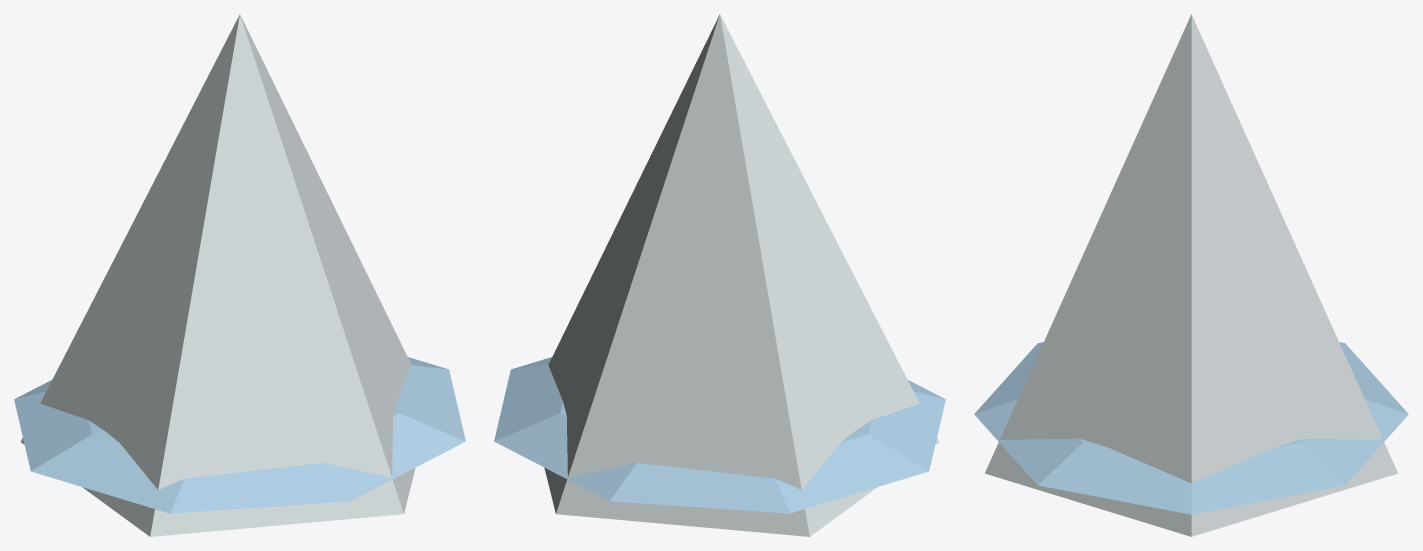
Rendered from fragmento_hielo.glb.
3 renders of one model, left to right at view 1: azimuth 30°, elevation 25°; view 2: azimuth 150°, elevation 25°; view 3: azimuth 270°, elevation 25°, orthographic.
Visible parts, largest first — view 1: fragmento_hielo; view 2: fragmento_hielo; view 3: fragmento_hielo.
Part boxes in pixels (x1,y1,x2,y2): fragmento_hielo: (14,14,465,536); fragmento_hielo: (494,14,945,536); fragmento_hielo: (974,14,1408,536).
Size of the model in its own units: 0.7 by 0.7 by 0.64.
